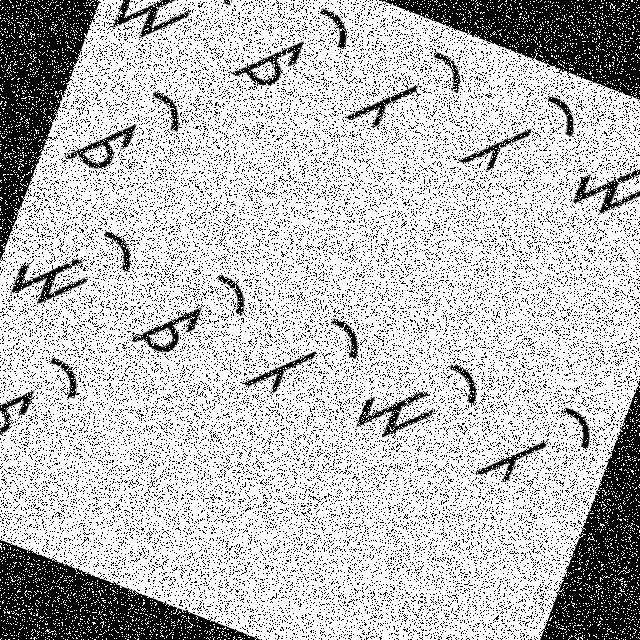bay: (229, 281, 375, 438), (451, 62, 596, 212), (466, 374, 604, 520), (337, 21, 475, 158)
cay: (46, 54, 202, 208), (121, 239, 260, 380), (222, 0, 365, 118), (0, 322, 94, 471)
may: (340, 323, 494, 478), (2, 185, 148, 332), (99, 0, 252, 77), (561, 101, 639, 250)
